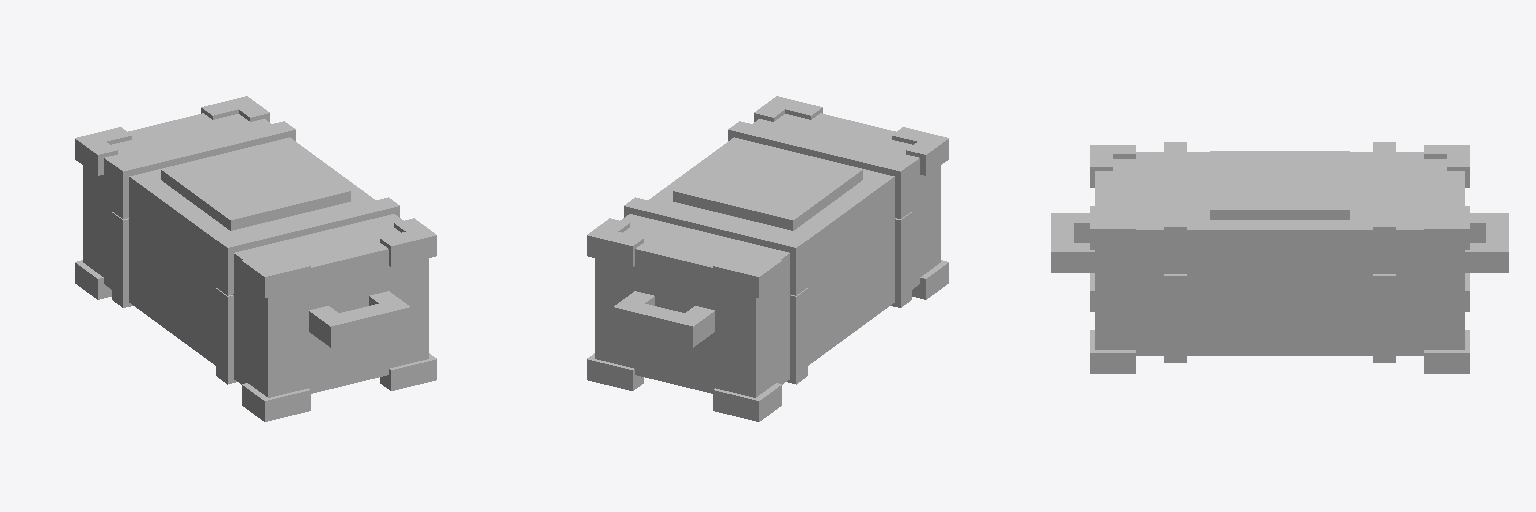
Rendered from mars_crate.obj.
3 views of the same model, side by side, from view 1: azimuth 30°, elevation 25°; view 2: azimuth 150°, elevation 25°; view 3: azimuth 270°, elevation 25° (orthographic).
Parts seen in each view (by area): view 1: container, cover, cube, computer, tie_cover, handle, tie_container; view 2: container, cover, cube, computer, tie_cover, handle, tie_container; view 3: container, cover, computer, cube, tie_cover, handle, tie_container.
Boxes of the visible parts, x1,y1,x2,y2 form: container: [83, 185, 428, 397]; cover: [83, 113, 428, 319]; cube: [75, 96, 436, 421]; computer: [161, 140, 350, 230]; tie_cover: [112, 121, 399, 295]; handle: [309, 291, 410, 347]; tie_container: [112, 212, 236, 384]; container: [595, 185, 940, 397]; cover: [595, 113, 940, 319]; cube: [587, 96, 948, 421]; computer: [673, 140, 862, 230]; tie_cover: [624, 121, 911, 295]; handle: [613, 291, 714, 347]; tie_container: [787, 212, 911, 384]; container: [1095, 272, 1464, 355]; cover: [1095, 152, 1464, 271]; computer: [1210, 151, 1349, 219]; cube: [1090, 145, 1469, 373]; tie_cover: [1164, 142, 1395, 273]; handle: [1051, 213, 1508, 272]; tie_container: [1164, 274, 1395, 362].
Size of the model in its own units: 0.5375 by 0.45 by 1.24.